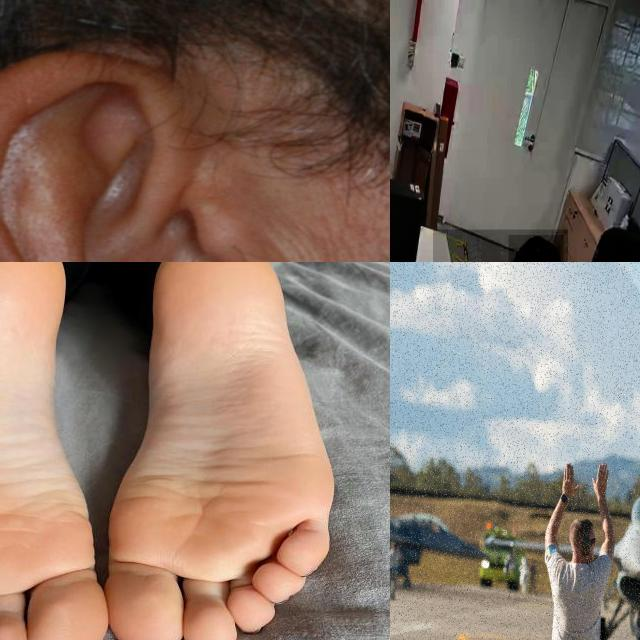Barefoots: (108, 262, 343, 640), (0, 262, 104, 640)
Ear-protection: (568, 511, 601, 568)
No_Ear-Protection: (0, 44, 341, 262)
head_nohelmet: (508, 234, 563, 262), (571, 524, 595, 549)
person: (531, 435, 619, 640)
